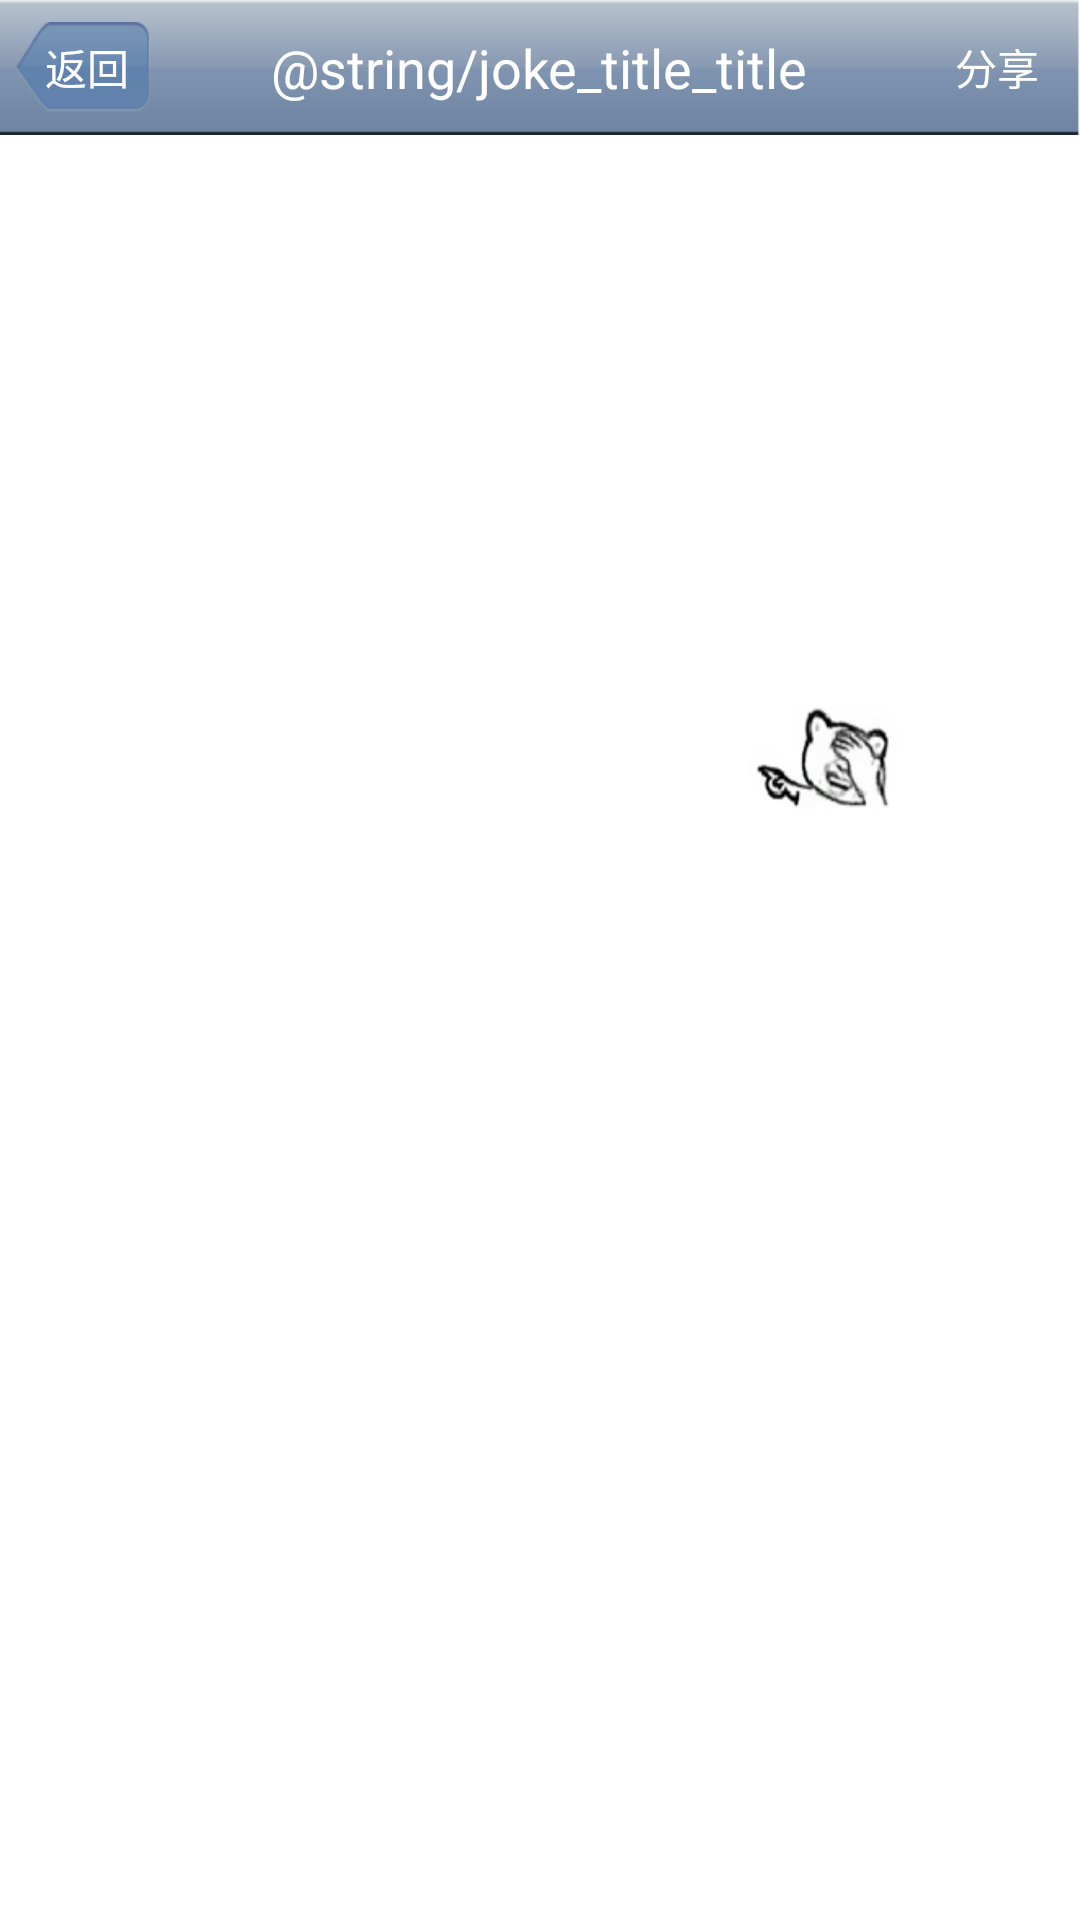

Locate icon controls on the screen. Image size 1080w x 1920h, boxes as (x1, y1, x2, y2).
joke hand: (756, 708, 889, 807)
